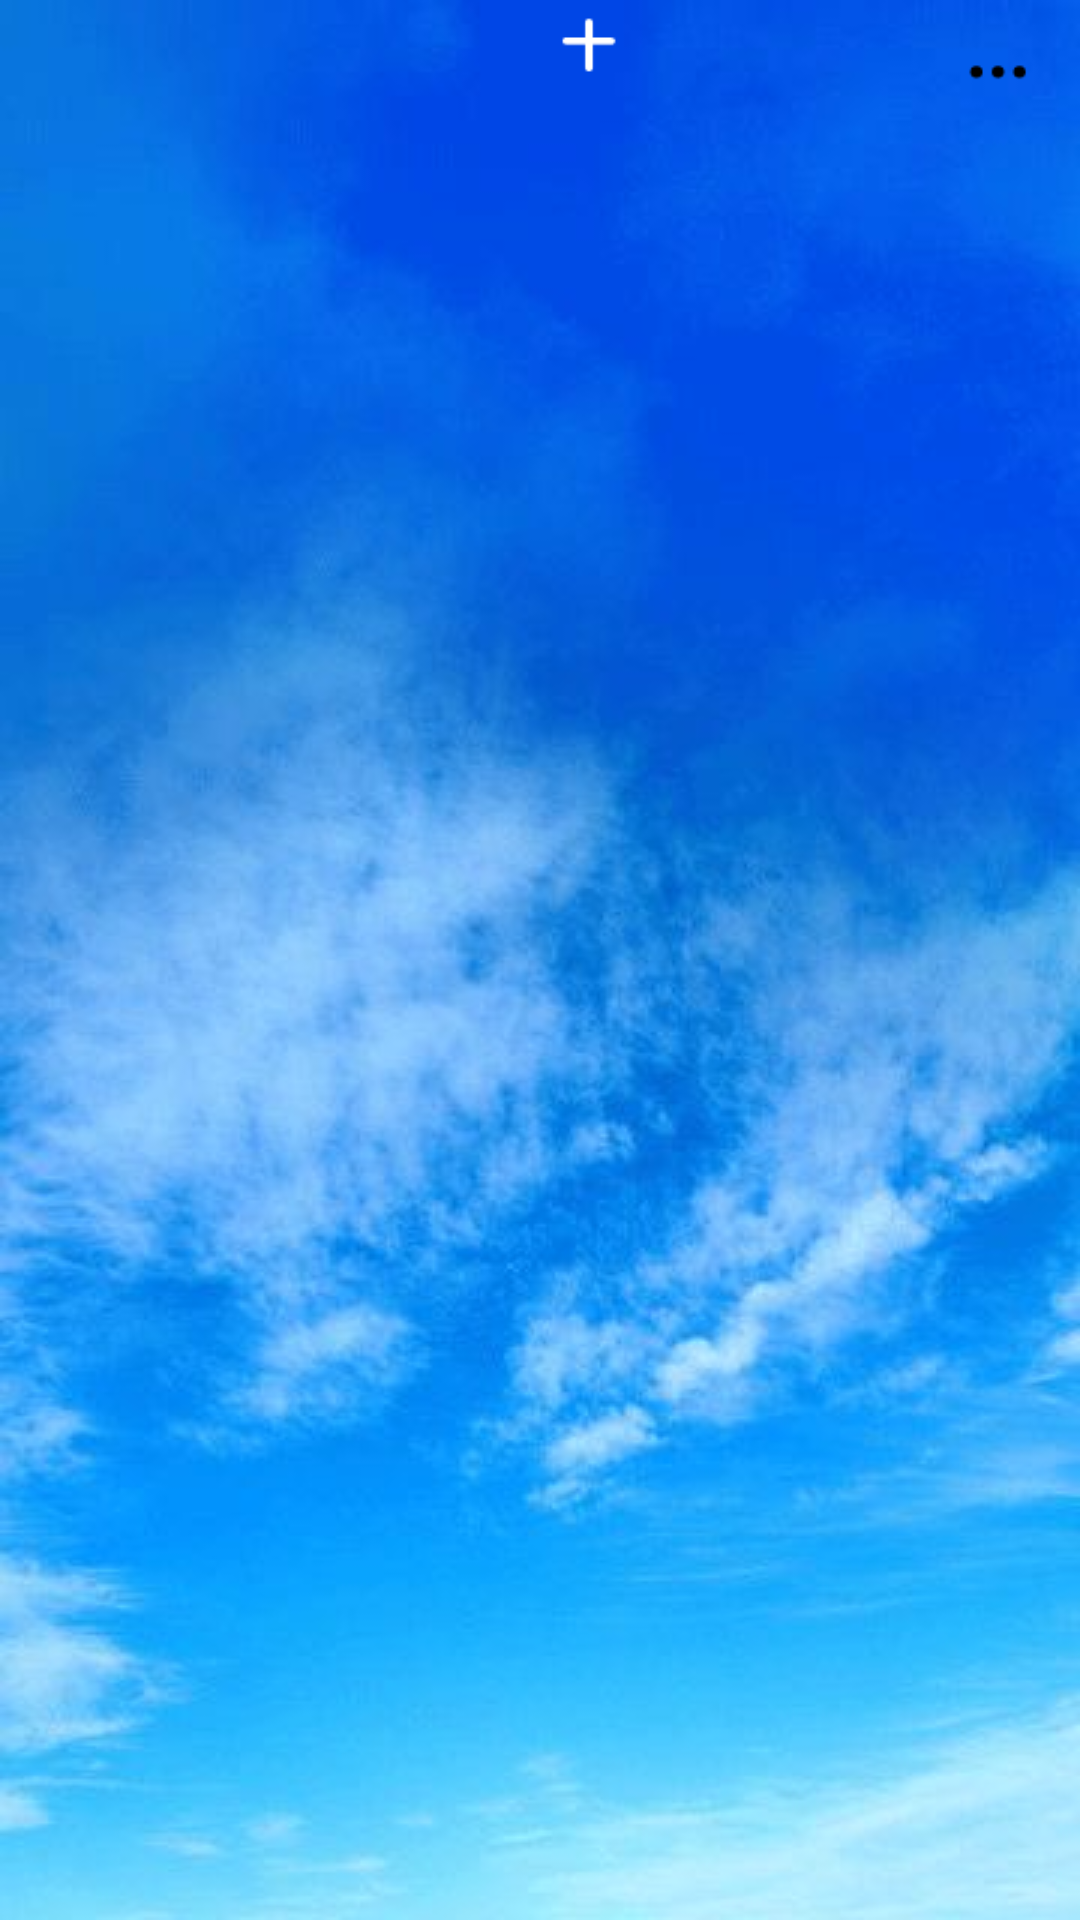

Screen size 1080×1920. Icon name, then its center in pixels as (x=x, y=y):
chat menu: (x=997, y=72)
